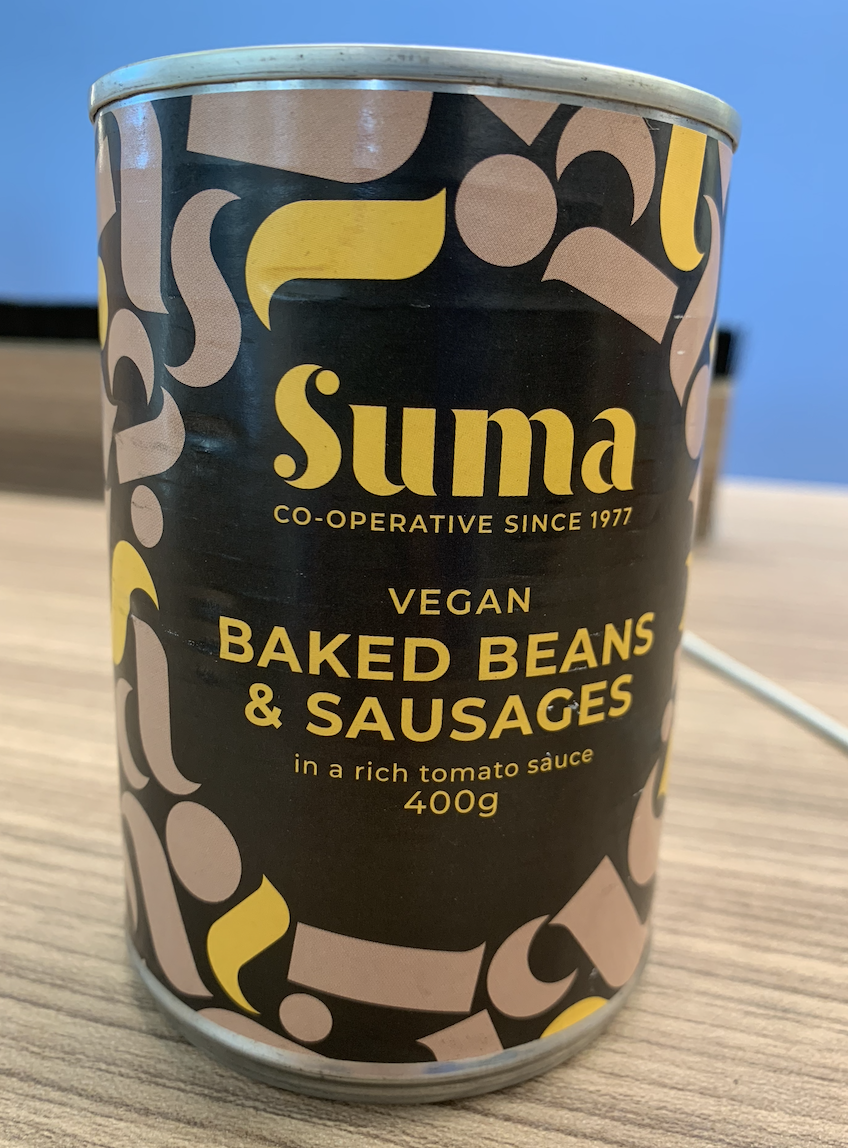Baked beans_450g: (113, 93, 703, 1056)
